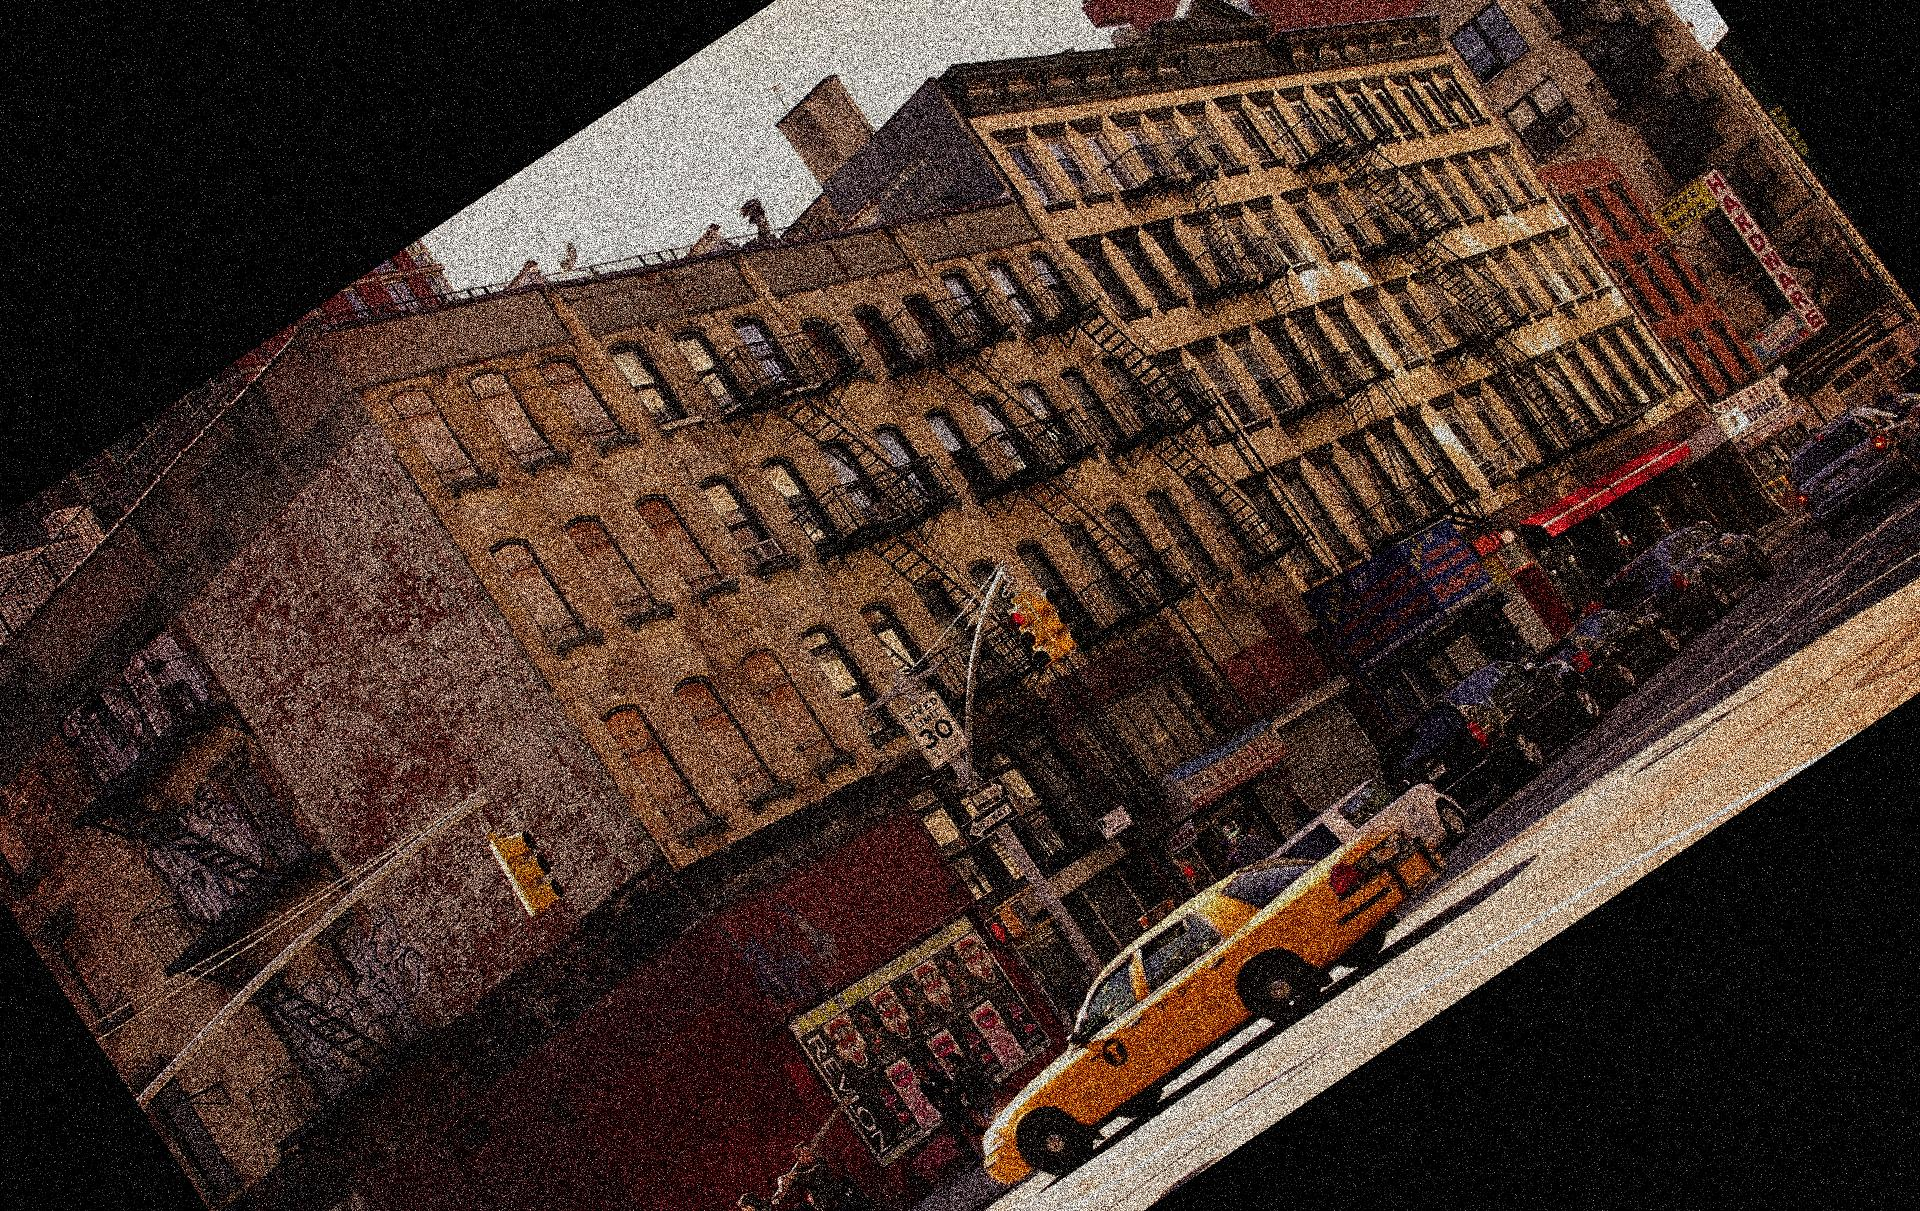taxi: (985, 819, 1388, 1175)
